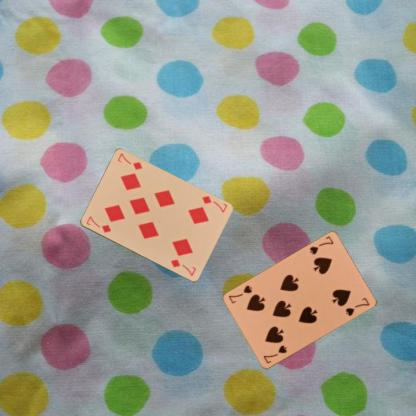7d: (83, 213, 112, 234), (199, 193, 228, 214)
7s: (307, 233, 334, 256), (260, 343, 288, 365)
